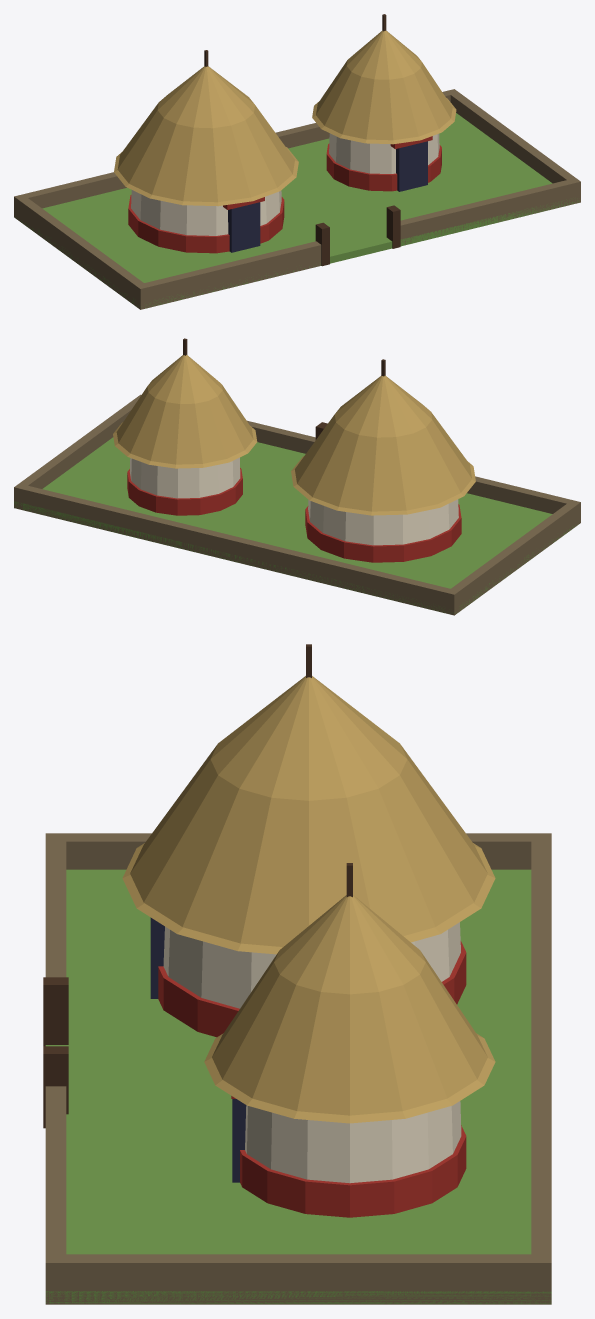
Rendered from house-2x1-1f-rondavel-a.glb.
3 views of the same model, one above another, from view 1: azimuth 30°, elevation 25°; view 2: azimuth 150°, elevation 25°; view 3: azimuth 270°, elevation 25° (orthographic). The views are drawn at different scales.
Visible parts, largest first — view 1: house-2x1-1f-rondavel-a; view 2: house-2x1-1f-rondavel-a; view 3: house-2x1-1f-rondavel-a.
Part boxes in pixels (bbox=[...]): house-2x1-1f-rondavel-a: bbox=[14, 14, 580, 309]; house-2x1-1f-rondavel-a: bbox=[14, 338, 580, 615]; house-2x1-1f-rondavel-a: bbox=[43, 644, 551, 1304].
Bounding box in the file's own units: 1.99 × 0.7725 × 0.995.
Materials: 1 (1 with a texture image).
